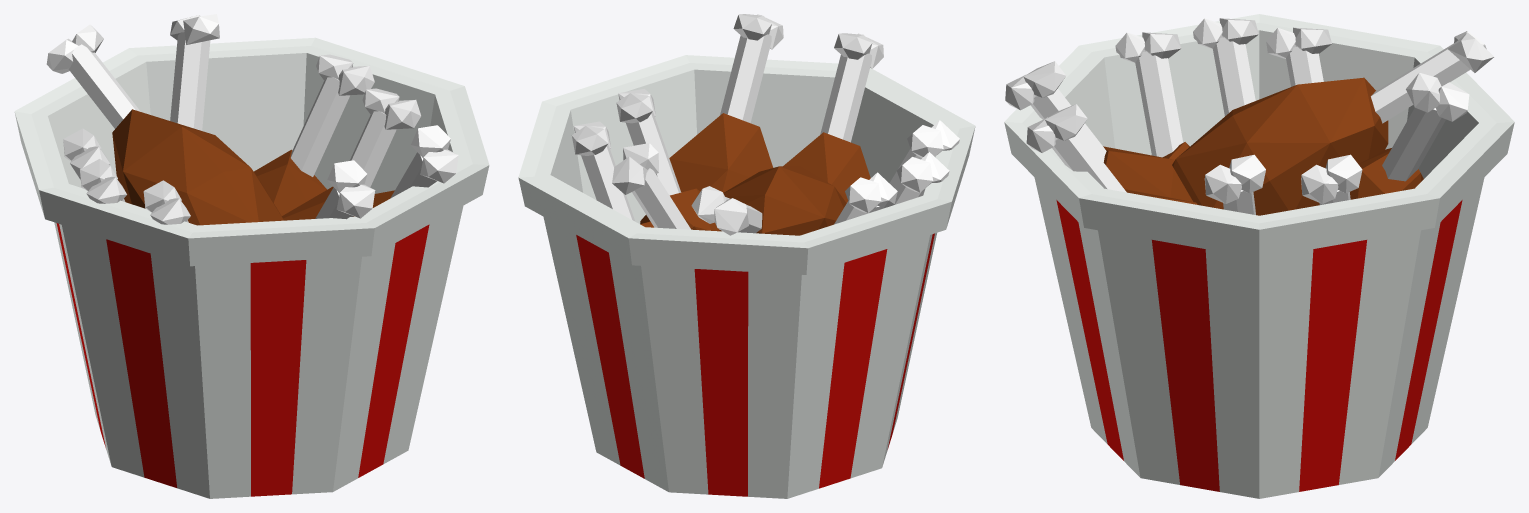
File: Bucket Of Chicken.fbx
3 views of the same model, side by side, from view 1: azimuth 30°, elevation 25°; view 2: azimuth 150°, elevation 25°; view 3: azimuth 270°, elevation 25° (orthographic). The views are drawn at different scales.
Visible parts, largest first — view 1: Cylinder, Icosphere.008, Cylinder.002, Cylinder.007, Cylinder.009, Cylinder.001, Cylinder.008, Icosphere.001, Cylinder.006, Cylinder.004, Cylinder.005, Cylinder.003 (+1 smaller); view 2: Cylinder, Icosphere.008, Icosphere.007, Cylinder.008, Cylinder.006, Cylinder.007, Icosphere.005, Cylinder.002, Cylinder.001, Cylinder.009, Cylinder.003, Cylinder.004 (+2 smaller); view 3: Cylinder, Icosphere.008, Cylinder.005, Cylinder.007, Cylinder.004, Cylinder.009, Cylinder.008, Icosphere.005, Cylinder.006, Cylinder.003, Cylinder.001, Cylinder.002 (+1 smaller).
Boxes of the visible parts, bbox=[...] form: Cylinder: bbox=[14, 37, 489, 498]; Icosphere.008: bbox=[112, 109, 283, 225]; Cylinder.002: bbox=[290, 54, 374, 176]; Cylinder.007: bbox=[170, 14, 219, 130]; Cylinder.009: bbox=[46, 24, 140, 128]; Cylinder.001: bbox=[349, 88, 420, 187]; Cylinder.008: bbox=[390, 125, 458, 198]; Icosphere.001: bbox=[254, 149, 326, 215]; Cylinder.006: bbox=[315, 160, 375, 219]; Cylinder.004: bbox=[80, 159, 126, 203]; Cylinder.005: bbox=[143, 180, 190, 224]; Cylinder.003: bbox=[63, 128, 110, 180]; Cylinder: bbox=[518, 55, 975, 498]; Icosphere.008: bbox=[719, 166, 846, 235]; Icosphere.007: bbox=[669, 113, 773, 192]; Cylinder.008: bbox=[720, 14, 783, 123]; Cylinder.006: bbox=[820, 33, 883, 142]; Cylinder.007: bbox=[612, 143, 690, 229]; Icosphere.005: bbox=[783, 132, 870, 202]; Cylinder.002: bbox=[571, 121, 635, 221]; Cylinder.001: bbox=[616, 89, 681, 195]; Cylinder.009: bbox=[691, 186, 762, 235]; Cylinder.003: bbox=[834, 172, 897, 224]; Cylinder.004: bbox=[893, 152, 949, 205]; Cylinder: bbox=[1004, 14, 1514, 498]; Icosphere.008: bbox=[1172, 77, 1388, 215]; Cylinder.005: bbox=[1115, 32, 1183, 157]; Cylinder.007: bbox=[1382, 72, 1469, 181]; Cylinder.004: bbox=[1193, 18, 1258, 115]; Cylinder.009: bbox=[1371, 31, 1493, 123]; Cylinder.008: bbox=[1026, 104, 1126, 192]; Icosphere.005: bbox=[1103, 146, 1192, 201]; Cylinder.006: bbox=[1005, 61, 1106, 161]; Cylinder.003: bbox=[1266, 27, 1331, 86]; Cylinder.001: bbox=[1204, 154, 1265, 214]; Cylinder.002: bbox=[1301, 154, 1362, 204].
Bounding box in the file's own units: 304 × 241 × 304.
